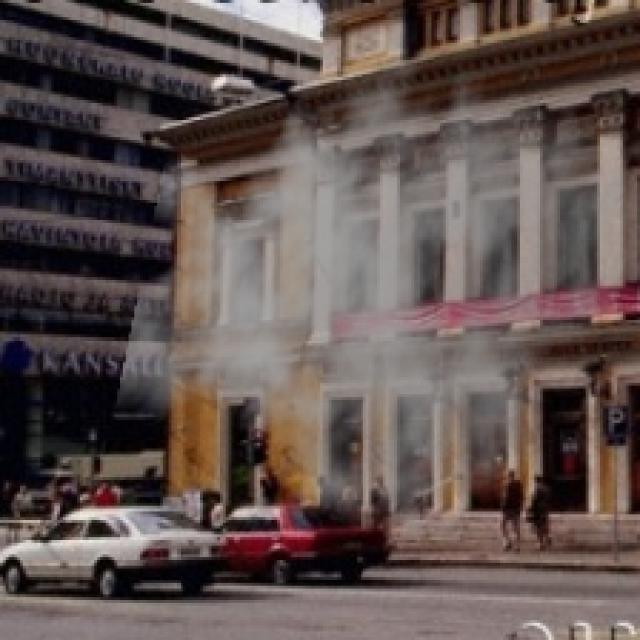Smoke: (115, 23, 634, 546)
